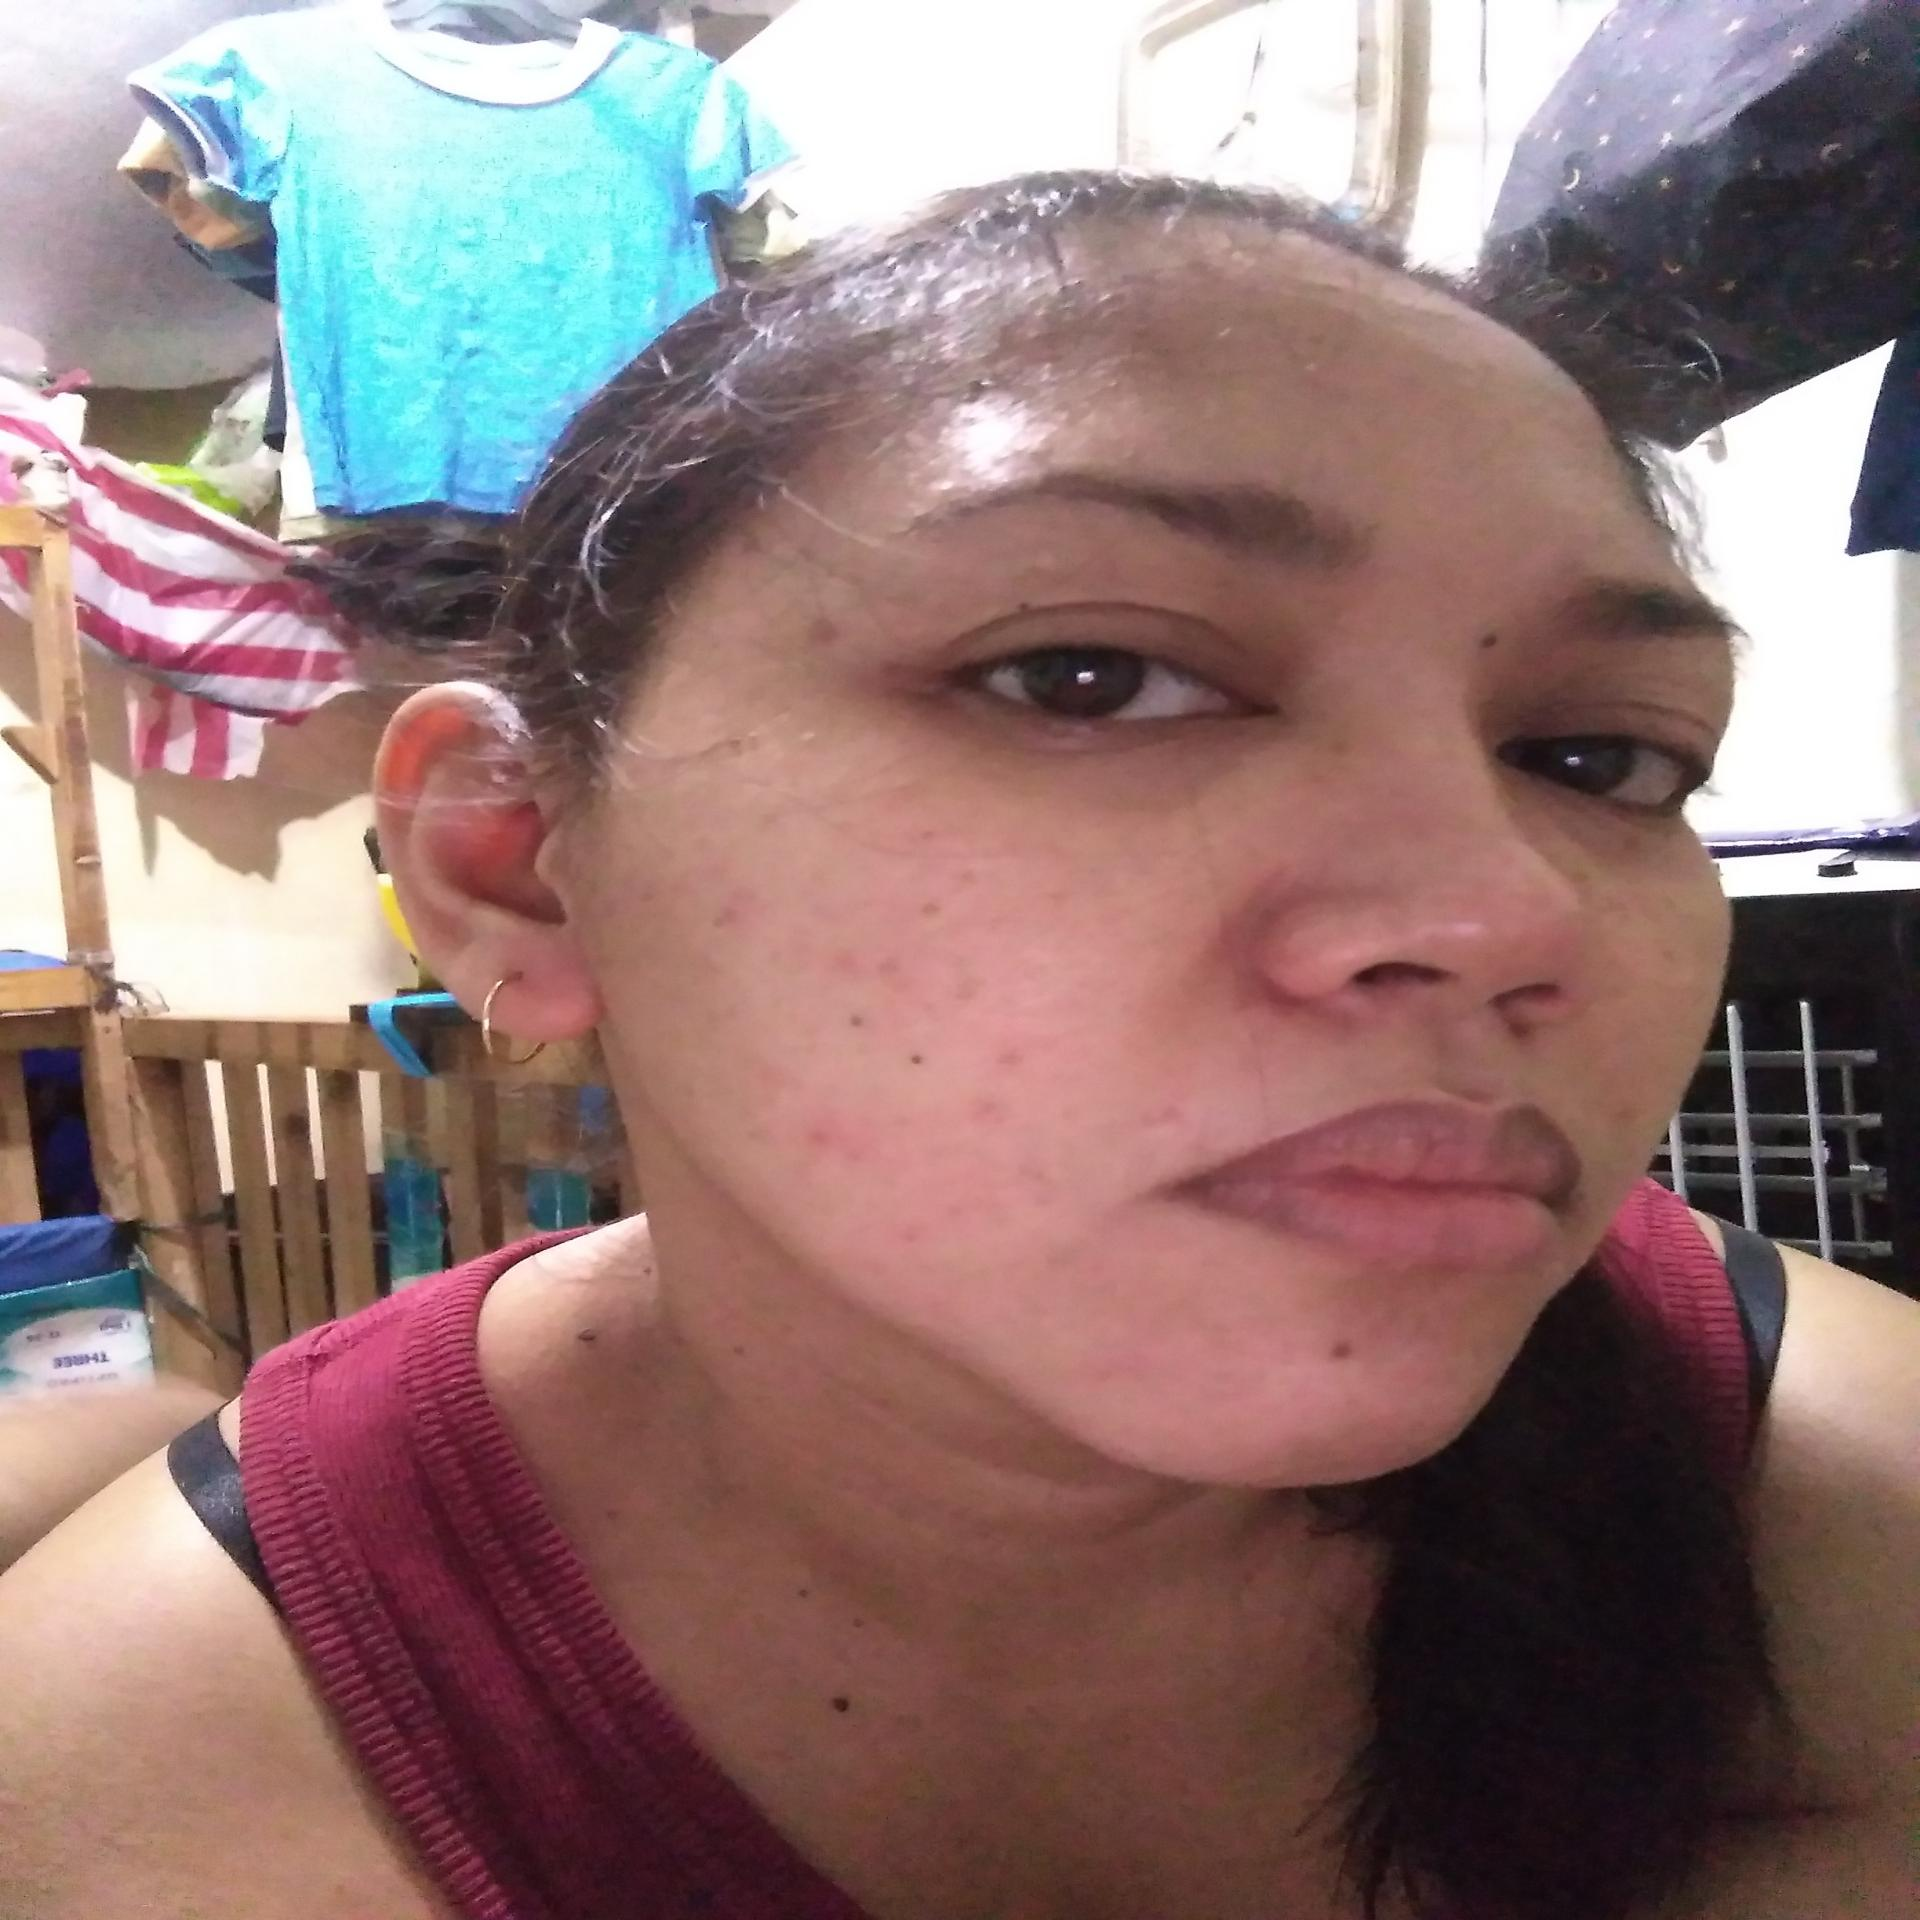Acne: (796, 612, 853, 673), (793, 1111, 860, 1162), (886, 1218, 965, 1250), (951, 1092, 1016, 1129), (705, 890, 754, 932), (1145, 1092, 1194, 1127), (985, 1041, 1029, 1078), (1609, 1099, 1649, 1136), (826, 946, 872, 972)
Dark Circles: (886, 695, 1310, 828), (1500, 758, 1700, 881)
